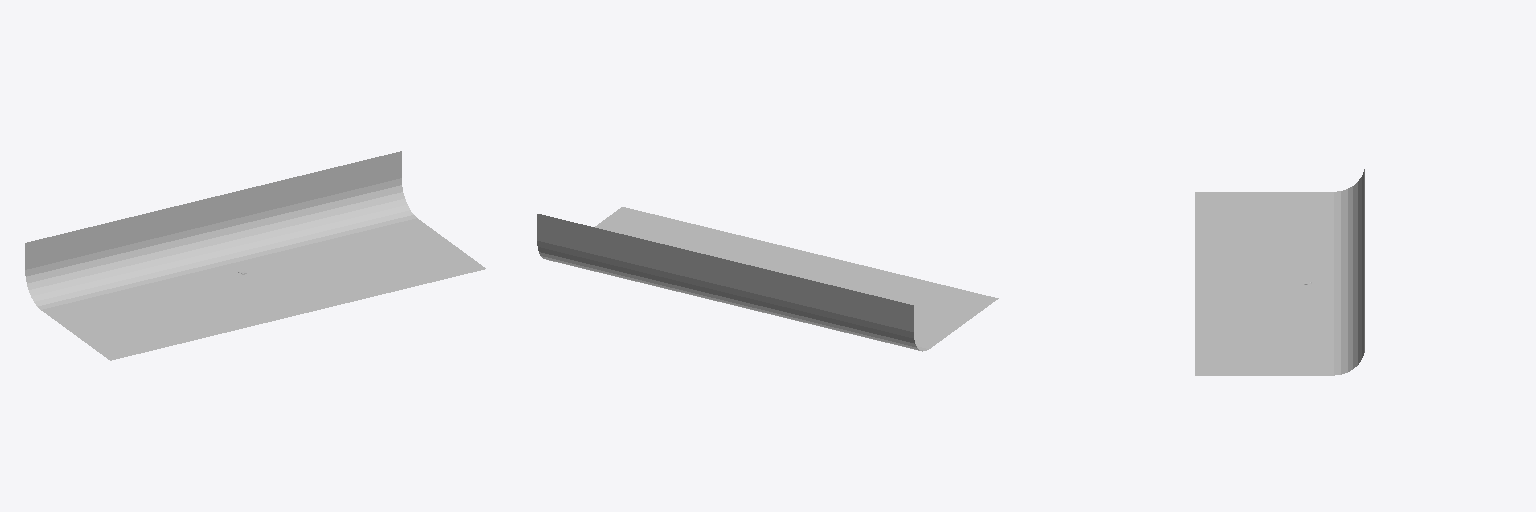
File: ALARM_CLOCK.obj
3 views of the same model, side by side, from view 1: azimuth 30°, elevation 25°; view 2: azimuth 150°, elevation 25°; view 3: azimuth 270°, elevation 25° (orthographic).
Parts seen in each view (by area): view 1: Line001; view 2: Line001; view 3: Line001.
Part boxes in pixels (left/top/right/bottom): Line001: left=25, top=151, right=485, bottom=360; Line001: left=537, top=207, right=998, bottom=351; Line001: left=1195, top=169, right=1364, bottom=375.
Size of the model in its own units: 780 by 110 by 306.